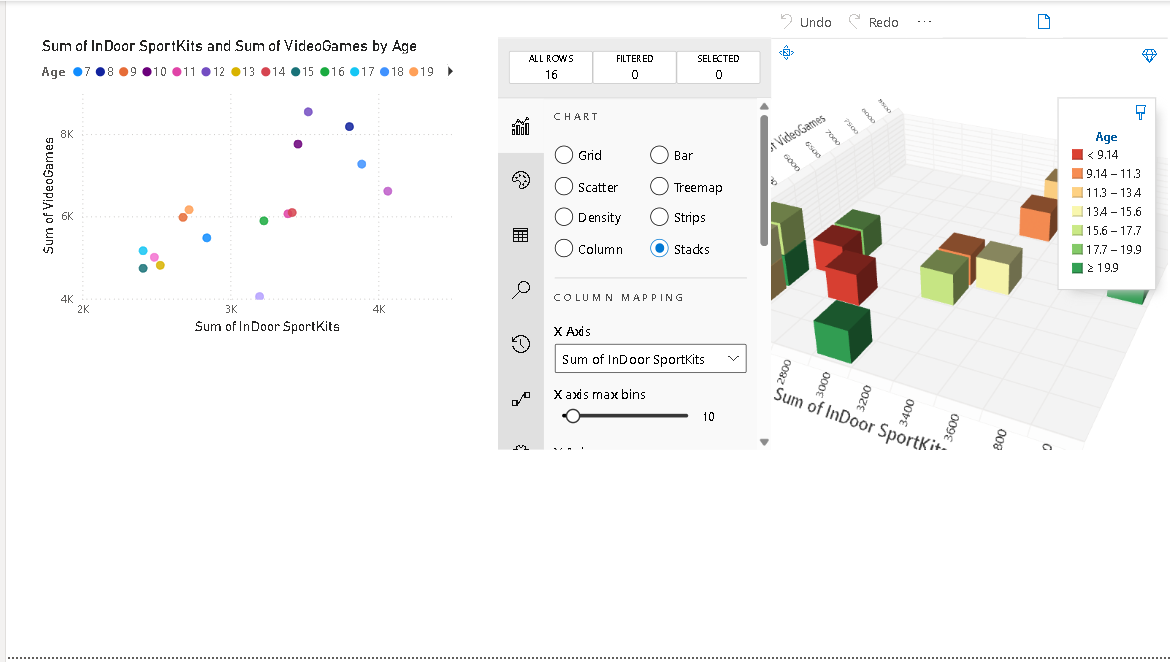

The dashboard page shown, as its layout file describes it:
{"tool":"powerbi","page":{"name":"Page 2","canvas":[1280,720],"ordinal":1},"visuals":[{"type":"scatterChart","fields":{"Series":["Student Survey.Age"],"Y":["Student Survey.VideoGames"],"X":["Student Survey.InDoor SportKits"]},"box":[34.3,38.4,467.9,332.1],"z":0},{"type":"SandDance201929976D117A654D0BAB8E96507442D80B","fields":{"values":["Student Survey.InDoor SportKits","Student Survey.VideoGames","Student Survey.Age"]},"box":[535.2,0,745.1,498.1],"z":1000}]}

Visuals, with their boxes on the page's 1280x720 design canvas (x1, y1, x2, y2). These are canvas units, not pixel positions in the 1170x662 screenshot, which may show the page scaled, cropped or inside an application window:
scatterChart - Student Survey.Age x Student Survey.VideoGames: rect(34, 38, 502, 370)
SandDance201929976D117A654D0BAB8E96507442D80B - Student Survey.InDoor SportKits x Student Survey.VideoGames: rect(535, 0, 1280, 498)
